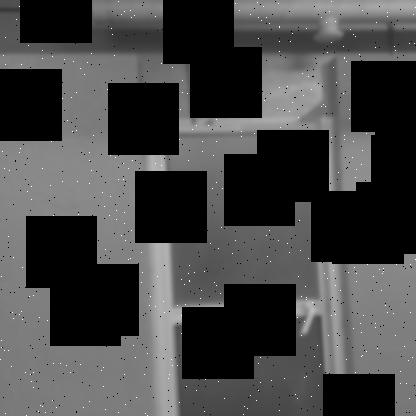Porte: (140, 112, 352, 416)
